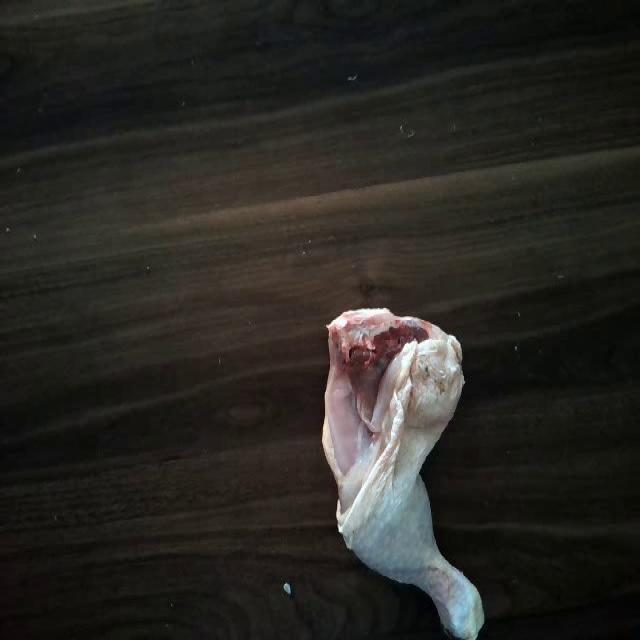quater: (309, 302, 505, 638)
